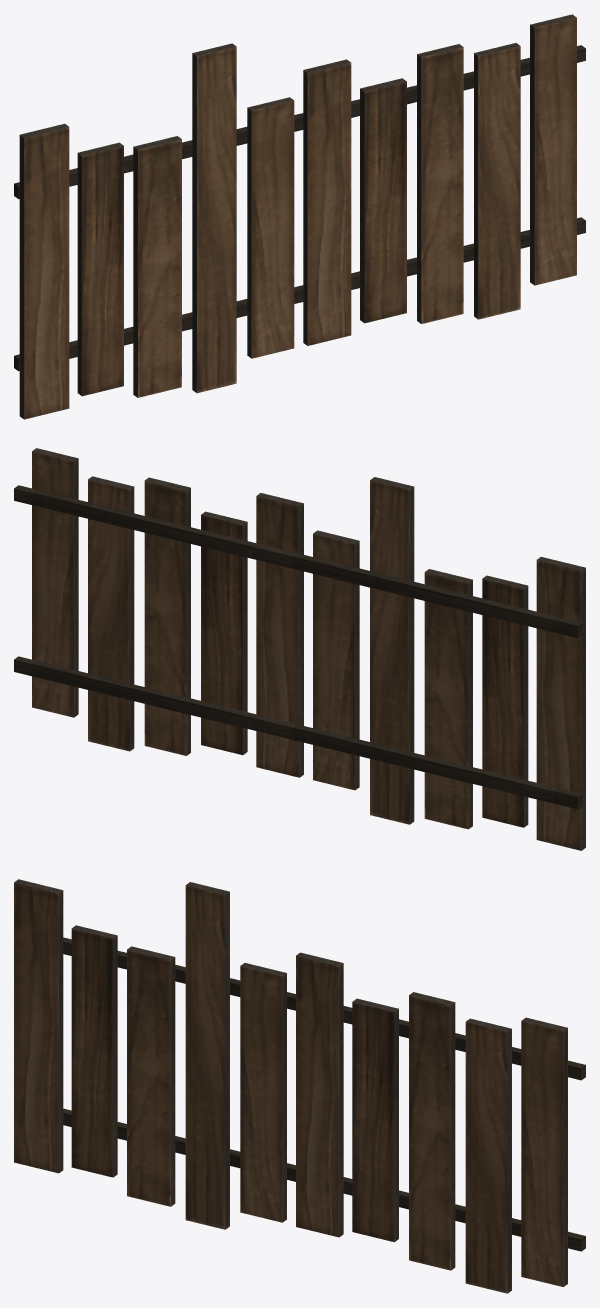
Rendered from ps_house04.FBX.
The picture shows the model from 3 angles, top to bottom: view 1: azimuth 30°, elevation 25°; view 2: azimuth 150°, elevation 25°; view 3: azimuth 330°, elevation 25°; orthographic projection.
Parts seen in each view (by area): view 1: 04; view 2: 04; view 3: 04.
Boxes of the visible parts, left/top/right/bottom form: 04: left=14, top=14, right=585, bottom=419; 04: left=14, top=448, right=585, bottom=850; 04: left=14, top=879, right=585, bottom=1293.
Bounding box in the file's own units: 3159 × 1792 × 87.19.
Materials: 1 (1 with a texture image).
